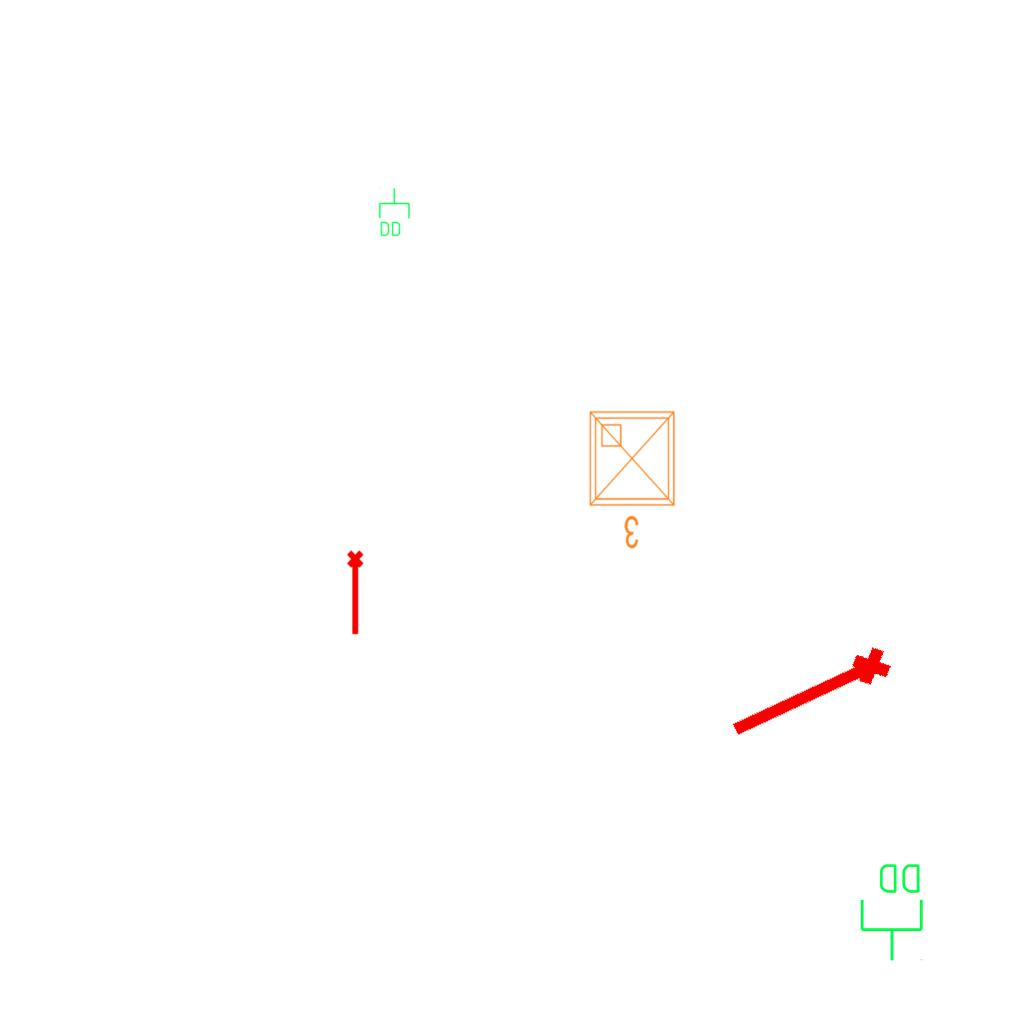ASR_Ansaugoeffnung: (721, 638, 901, 756), (345, 549, 368, 637)
Datenanschluss_zweifach: (858, 860, 927, 963), (377, 187, 411, 238)
Einbaudownlights_LED_Konferenzraeume: (582, 404, 686, 554)
